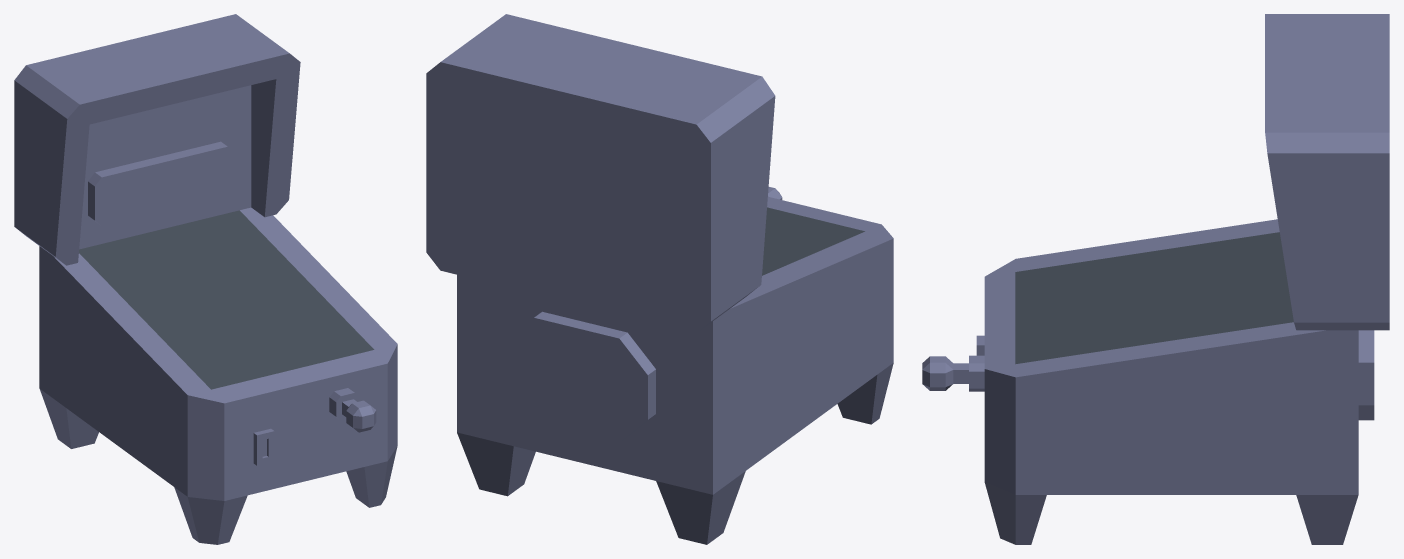
File: pinball.obj
3 renders of one model, left to right at view 1: azimuth 30°, elevation 25°; view 2: azimuth 150°, elevation 25°; view 3: azimuth 270°, elevation 25°, orthographic. The views are drawn at different scales.
Size of the model in its own units: 0.5 by 0.7417 by 0.75.
